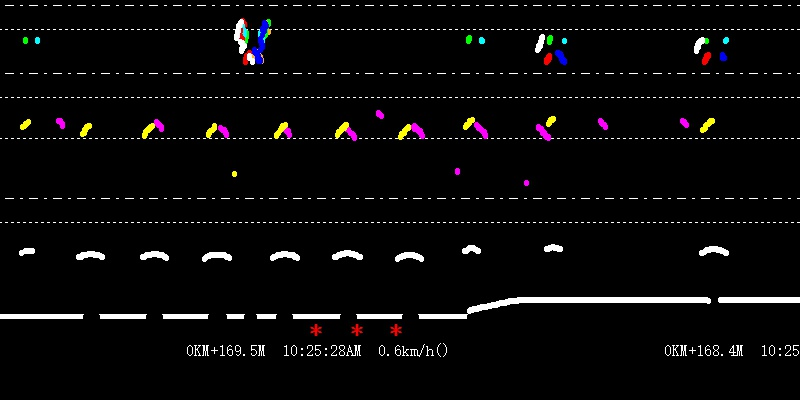J: (233, 2, 271, 64)
star: (388, 321, 406, 339), (308, 321, 324, 337), (350, 322, 364, 336)
y_p: (77, 111, 431, 270)
